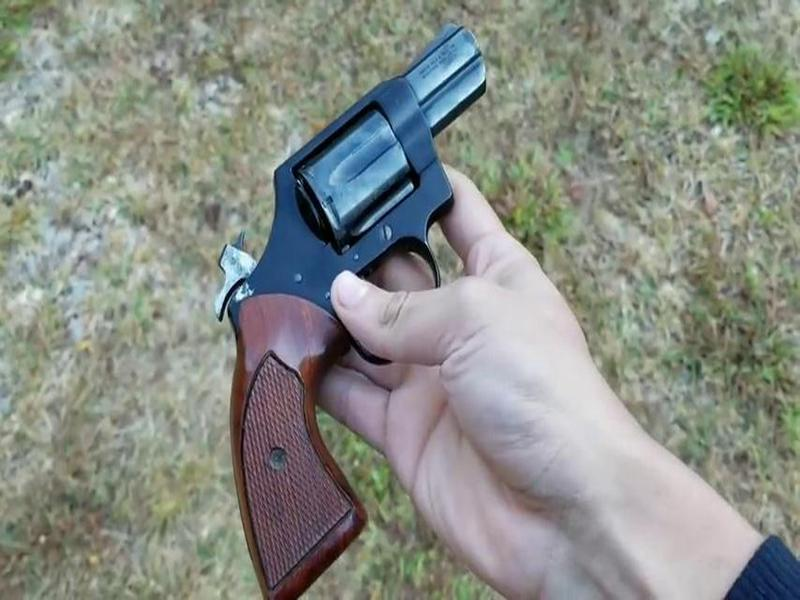Revolver: (220, 17, 491, 573)
